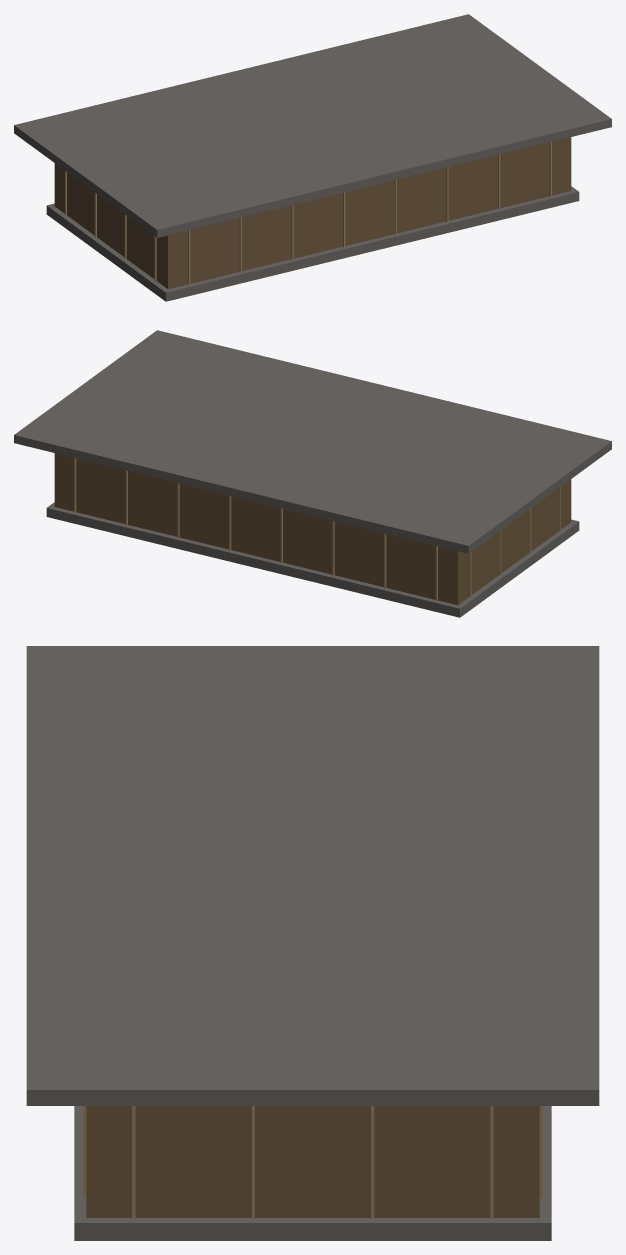
The model's file is pav_bronze_1f.glb.
3 renders of one model, top to bottom at view 1: azimuth 30°, elevation 25°; view 2: azimuth 150°, elevation 25°; view 3: azimuth 270°, elevation 25°, orthographic. The views are drawn at different scales.
Parts seen in each view (by area): view 1: pav_bronze_1f; view 2: pav_bronze_1f; view 3: pav_bronze_1f.
Boxes of the visible parts, x1,y1,x2,y2 form: pav_bronze_1f: [14, 14, 611, 301]; pav_bronze_1f: [14, 330, 611, 617]; pav_bronze_1f: [26, 646, 599, 1240].
Bounding box in the file's own units: 26.4 × 4.75 × 14.4.
